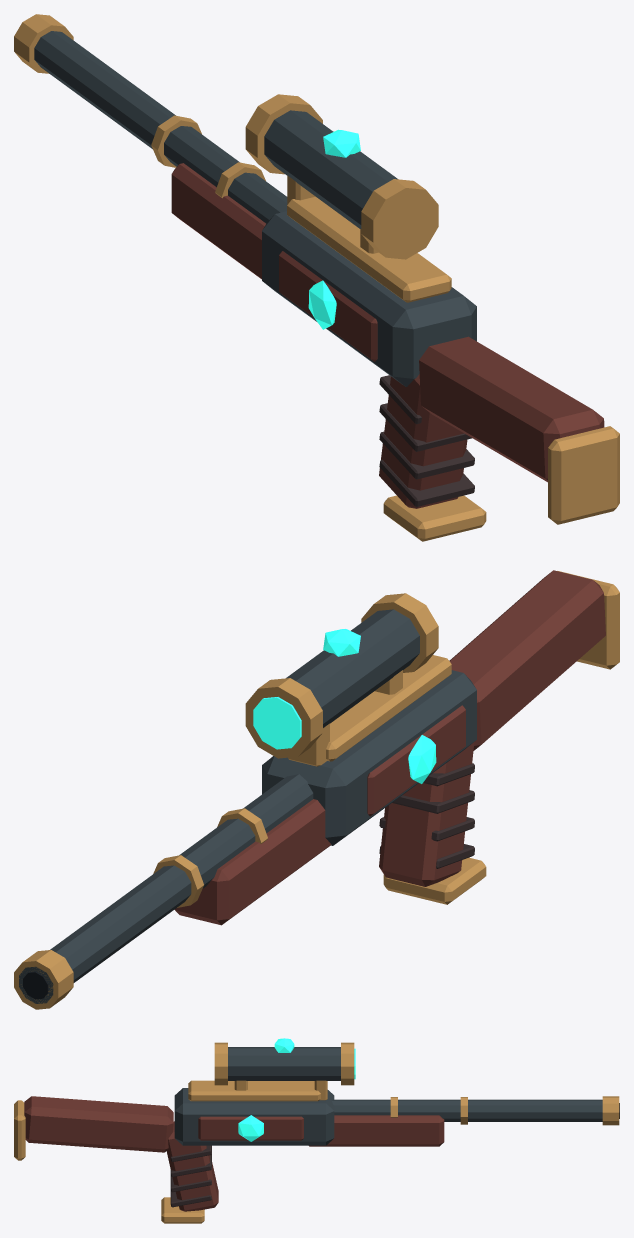
Rendered from 05_faroracle.glb.
3 views of the same model, one above another, from view 1: azimuth 30°, elevation 25°; view 2: azimuth 150°, elevation 25°; view 3: azimuth 270°, elevation 25° (orthographic). The views are drawn at different scales.
Parts seen in each view (by area): view 1: Stock | wood.002, Receiver | forged iron.003, Barrel | iron.003, Optic | long tube, Stock | brass butt.002, Receiver | raised spine.003, Fore end | long wood, Grip | wrapped heartwood.004, Optic | rim, Receiver | lacquer sideplate.006, Grip | pommel.004, Optic | rim.001 (+7 smaller); view 2: Stock | wood.002, Barrel | iron.003, Receiver | forged iron.003, Fore end | long wood, Optic | long tube, Grip | wrapped heartwood.004, Receiver | raised spine.003, Receiver | lacquer sideplate.006, Optic | rim.001, Optic | rim, Optic | lens, Grip | pommel.004 (+8 smaller); view 3: Stock | wood.002, Barrel | iron.003, Receiver | forged iron.003, Optic | long tube, Fore end | long wood, Receiver | raised spine.003, Receiver | lacquer sideplate.007, Grip | wrapped heartwood.004, Grip | pommel.004, Stock | brass butt.002, Optic | rim, Optic | rim.001 (+6 smaller).
Part boxes in pixels (x1,y1,x2,y2): Stock | wood.002: (419, 336, 604, 482); Receiver | forged iron.003: (262, 211, 476, 386); Barrel | iron.003: (34, 31, 287, 223); Optic | long tube: (264, 110, 397, 228); Stock | brass butt.002: (548, 426, 619, 524); Receiver | raised spine.003: (287, 196, 451, 302); Fore end | long wood: (171, 163, 265, 279); Grip | wrapped heartwood.004: (379, 374, 467, 508); Optic | rim: (361, 179, 438, 259); Receiver | lacquer sideplate.006: (279, 251, 377, 361); Grip | pommel.004: (383, 495, 486, 541); Optic | rim.001: (245, 94, 322, 174); Stock | wood.002: (449, 570, 605, 750); Barrel | iron.003: (19, 774, 313, 1003); Receiver | forged iron.003: (262, 670, 476, 845); Fore end | long wood: (174, 799, 331, 925); Optic | long tube: (286, 609, 419, 727); Grip | wrapped heartwood.004: (379, 742, 474, 886); Receiver | raised spine.003: (326, 655, 451, 761); Receiver | lacquer sideplate.006: (367, 705, 465, 816); Optic | rim.001: (245, 678, 322, 758); Optic | rim: (361, 593, 438, 672); Optic | lens: (253, 697, 301, 749); Grip | pommel.004: (383, 857, 486, 904); Stock | wood.002: (24, 1096, 173, 1152); Barrel | iron.003: (331, 1099, 602, 1121); Receiver | forged iron.003: (174, 1088, 334, 1145); Optic | long tube: (228, 1047, 340, 1080); Fore end | long wood: (309, 1115, 444, 1146); Receiver | raised spine.003: (188, 1080, 320, 1101); Receiver | lacquer sideplate.007: (198, 1116, 303, 1140); Grip | wrapped heartwood.004: (166, 1121, 218, 1211); Grip | pommel.004: (161, 1197, 204, 1223); Stock | brass butt.002: (14, 1100, 25, 1160); Optic | rim: (214, 1042, 227, 1085); Optic | rim.001: (341, 1042, 354, 1085).
Bounding box in the file's own units: 0.2198 × 0.5875 × 1.82.
